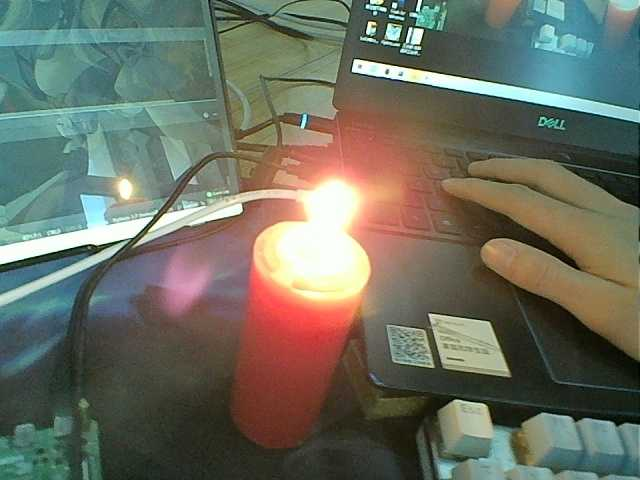candle: (236, 284, 346, 453)
fire: (286, 178, 369, 285)
